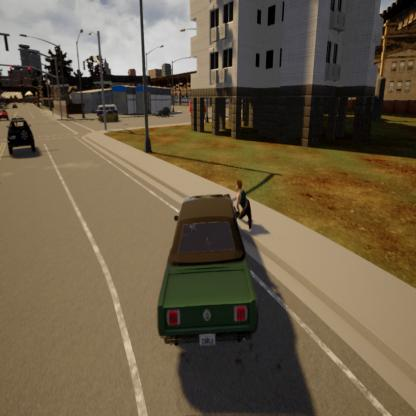Cars: (157, 196, 258, 350), (7, 116, 36, 154), (97, 102, 118, 121), (98, 108, 119, 124), (189, 99, 206, 118), (154, 106, 172, 118), (0, 108, 8, 118)
Pedestrian: (234, 178, 253, 229)
